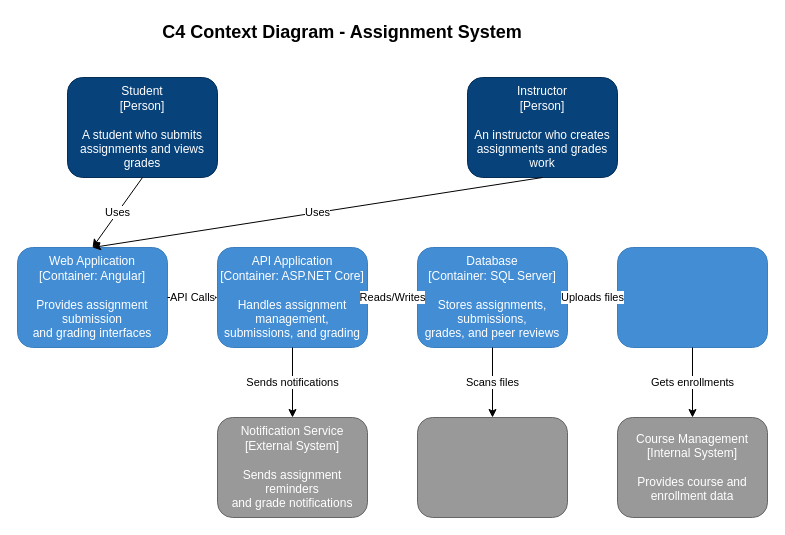
Some shapes in this 785 by 535 pixel diagram are drawn without their labels. The shapes that lost their labels are listed below. From the top down, each one's centre as x and y in pixels, then its label:
At [692,297]: "File Storage [Container: Blob Storage] Stores submission files and attachments".
At [492,467]: "Antivirus Service [External System] Scans uploaded files for malware".
